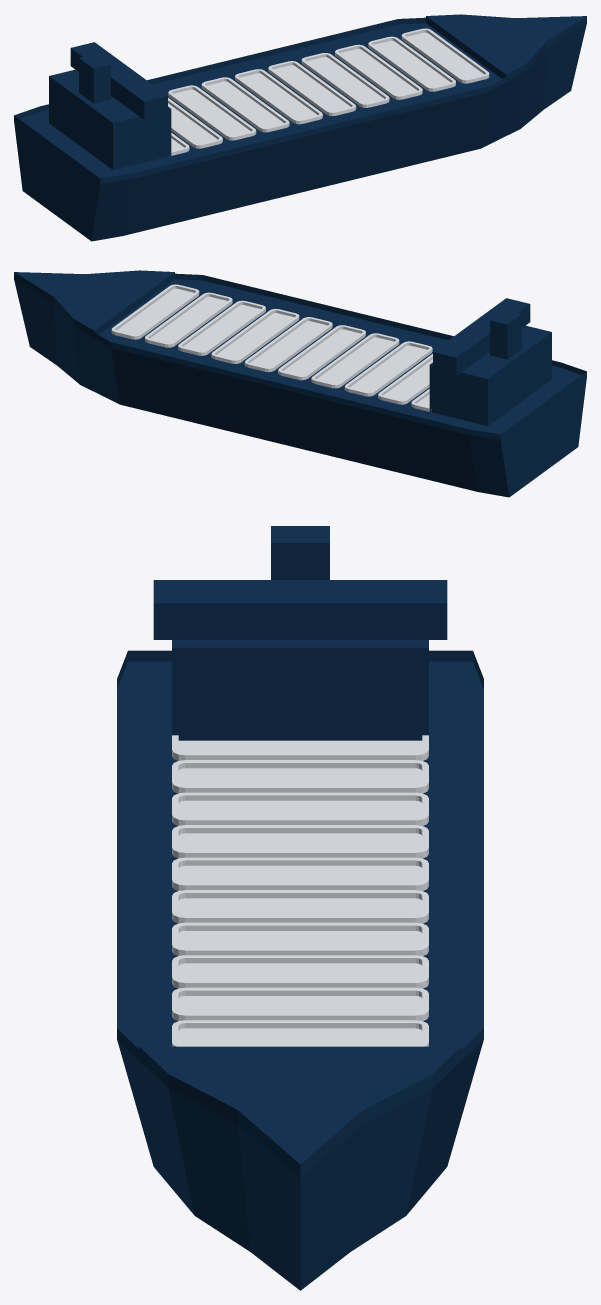
The model's file is vessel-hold-10.glb.
3 views of the same model, one above another, from view 1: azimuth 30°, elevation 25°; view 2: azimuth 150°, elevation 25°; view 3: azimuth 270°, elevation 25° (orthographic). The views are drawn at different scales.
Parts seen in each view (by area): view 1: hull, superstructure, detail_forecastle, detail_bulwark, hold_08, hold_01, hold_04, hold_07, hold_05, hold_02, hold_03, hold_06 (+2 smaller); view 2: hull, superstructure, detail_forecastle, detail_bulwark, hold_08, hold_01, hold_04, hold_07, hold_05, hold_02, hold_03, hold_06 (+2 smaller); view 3: hull, superstructure, detail_forecastle, hold_04, hold_02, hold_07, hold_03, hold_08, hold_09, hold_05, hold_06, hold_01 (+3 smaller).
Boxes of the visible parts, x1,y1,x2,y2 form: hull: (14,23,586,241); superstructure: (49,42,171,169); detail_forecastle: (426,14,586,81); detail_bulwark: (14,17,586,183); hold_08: (168,85,256,140); hold_01: (401,28,489,83); hold_04: (301,53,389,107); hold_07: (201,77,289,132); hold_05: (268,61,356,116); hold_02: (368,36,455,91); hold_03: (335,44,422,99); hold_06: (235,69,322,124); hull: (14,279,586,497); superstructure: (429,298,551,425); detail_forecastle: (14,270,174,337); detail_bulwark: (14,273,586,439); hold_08: (344,341,432,396); hold_01: (111,284,199,339); hold_04: (211,309,299,363); hold_07: (311,333,399,388); hold_05: (244,317,332,372); hold_02: (145,292,232,347); hold_03: (178,300,265,355); hold_06: (278,325,365,380); hull: (117,661,483,1290); superstructure: (153,580,447,740); detail_forecastle: (139,1046,461,1176); hold_04: (172,922,428,955); hold_02: (172,987,428,1020); hold_07: (172,825,428,858); hold_03: (172,955,428,988); hold_08: (172,792,428,825); hold_09: (172,760,428,793); hold_05: (172,890,428,923); hold_06: (172,857,428,890); hold_01: (172,1020,428,1046).
Bounding box in the file's own units: 10 × 2.63 × 3.
